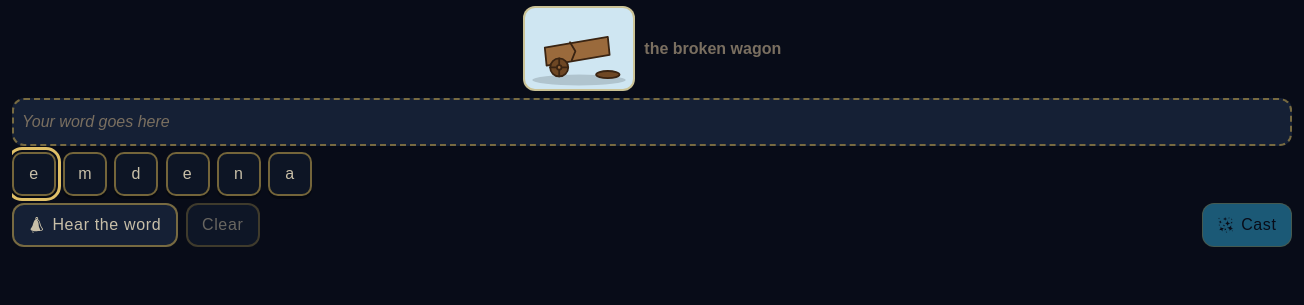
Test: the rune stone (R-I12) › a word already ruled out is refused by its spelling, not its tiles (RI-a / N2)
Click the button "m".
click(85, 174)  # box left=63, top=152, right=107, bottom=196
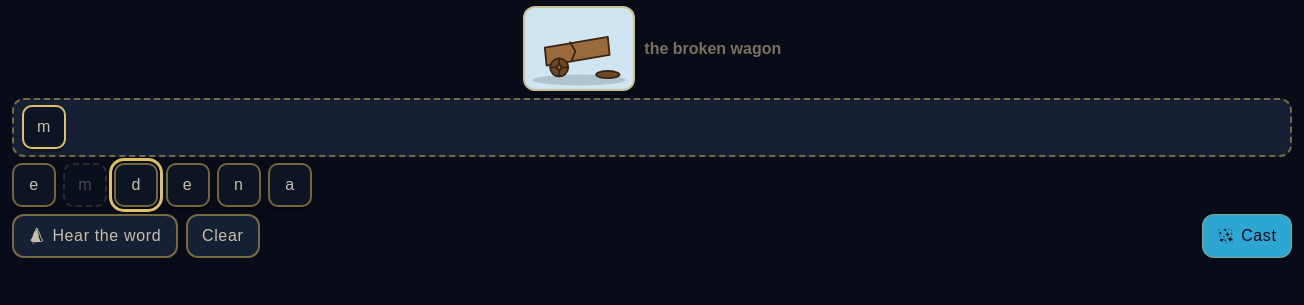
Click the 2nd button "e".
click(188, 185)  # box left=166, top=163, right=210, bottom=207
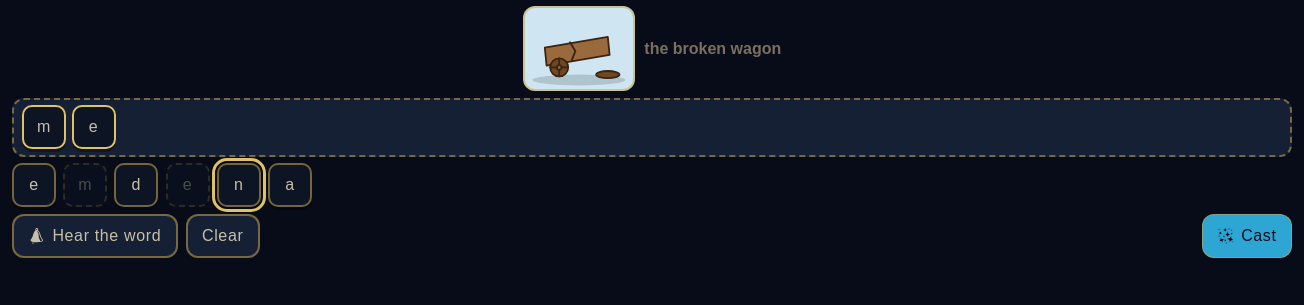
Click the button "n".
click(239, 185)  # box left=217, top=163, right=261, bottom=207
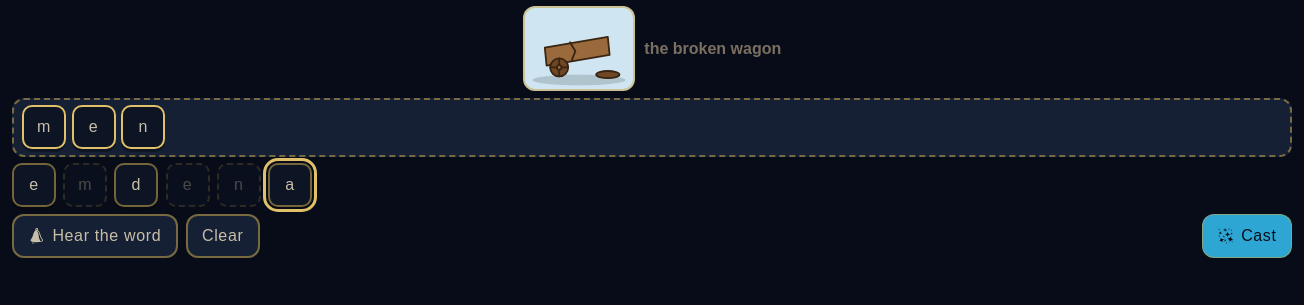
Click the button "d".
click(136, 185)  # box left=114, top=163, right=158, bottom=207
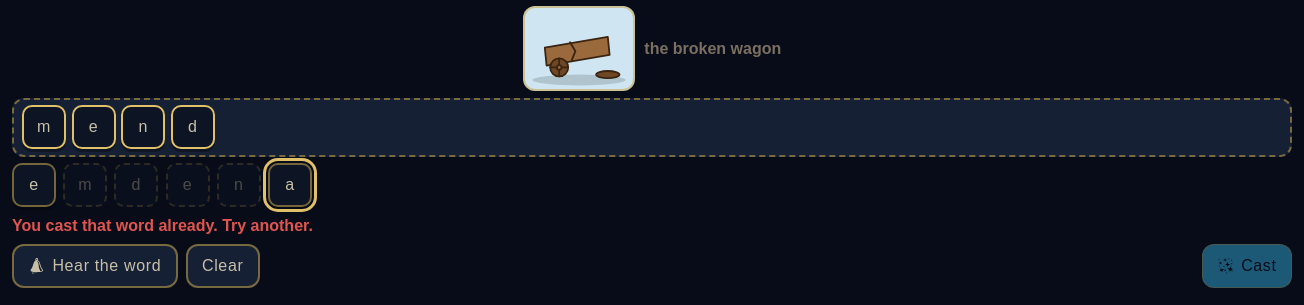
Result: the button "Cast" is disabled at left=1202, top=244, right=1292, bottom=288
Result: the text "You cast that word already. Try another." is shown at left=12, top=217, right=313, bottom=234
